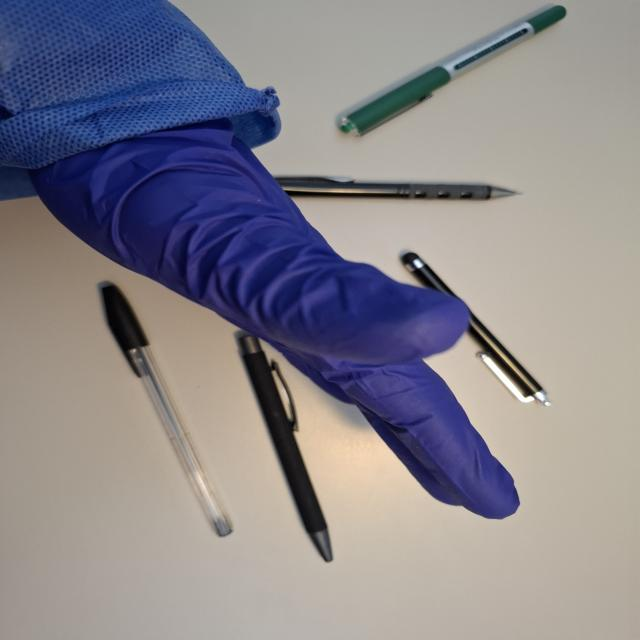glove_on: (25, 100, 525, 522)
